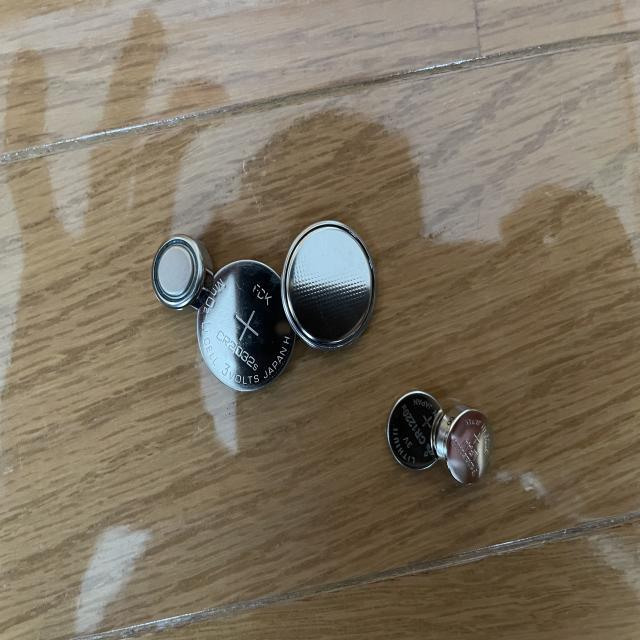COIN: (194, 257, 298, 395), (282, 218, 378, 354), (382, 390, 448, 474), (148, 233, 214, 315), (432, 407, 494, 488)
